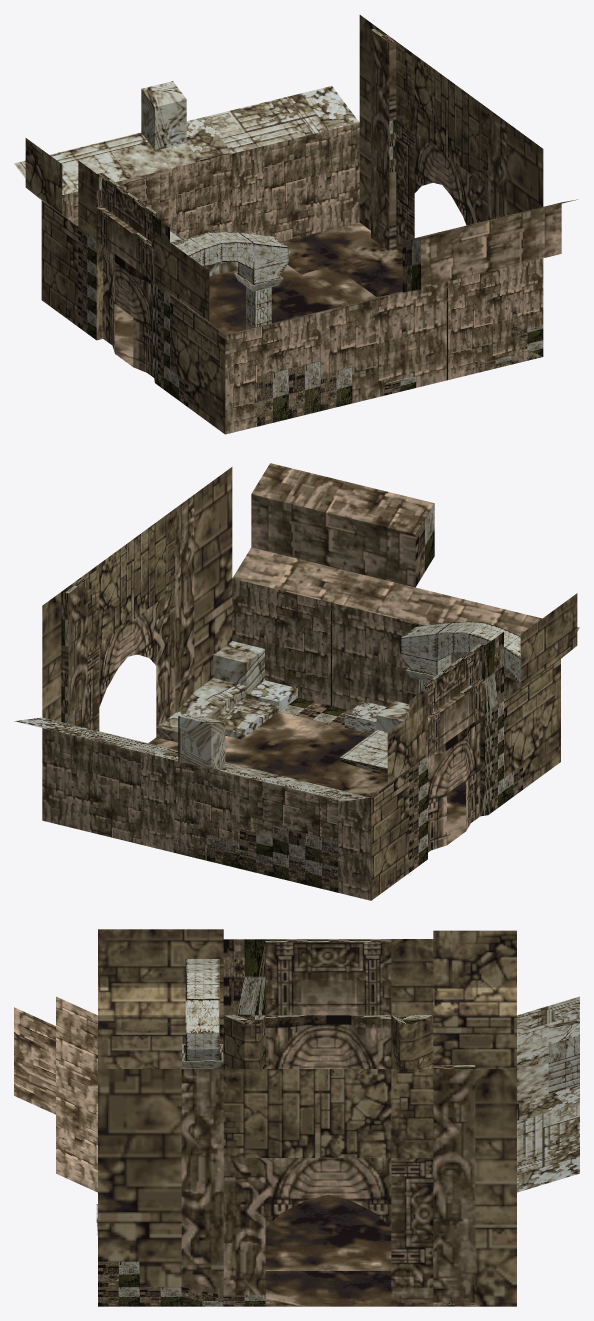
File: vgrant_124.fbx
The picture shows the model from 3 angles, top to bottom: view 1: azimuth 30°, elevation 25°; view 2: azimuth 150°, elevation 25°; view 3: azimuth 270°, elevation 25°; orthographic projection. The views are drawn at different scales.
Parts seen in each view (by area): view 1: Grid; view 2: Grid; view 3: Grid.
Boxes of the visible parts, x1,y1,x2,y2 form: Grid: (14,15,578,434); Grid: (14,463,579,900); Grid: (14,929,579,1306).
Size of the model in its own units: 2.1 by 1.26 by 2.7.
